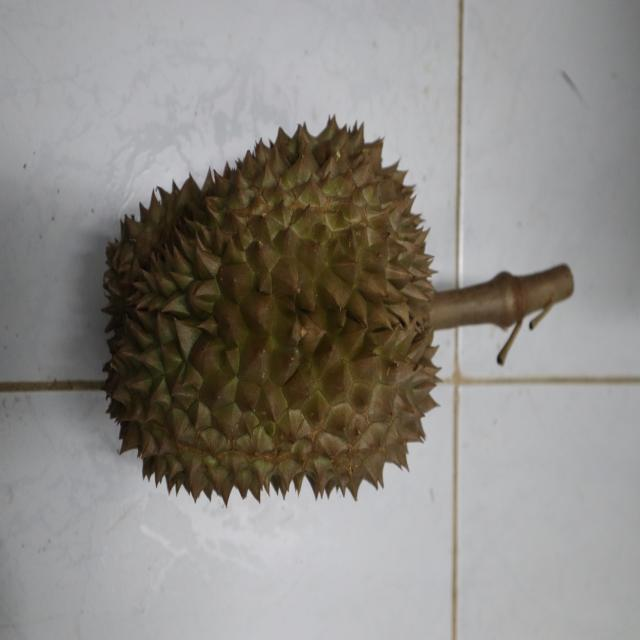mature: (100, 116, 446, 503)
